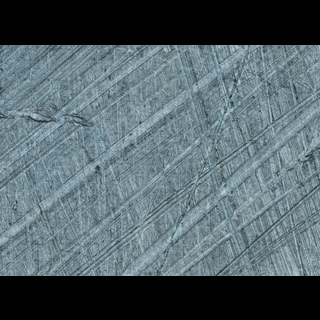d: (0, 99, 97, 131)
